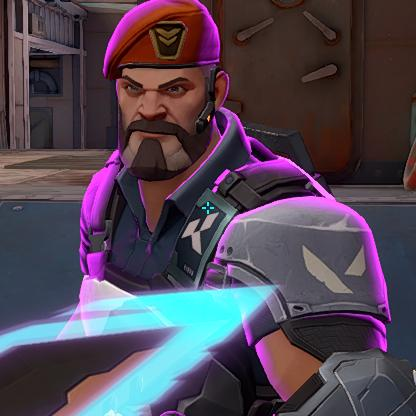enemyBody: (106, 182, 260, 416)
enemyHead: (120, 32, 209, 166)
